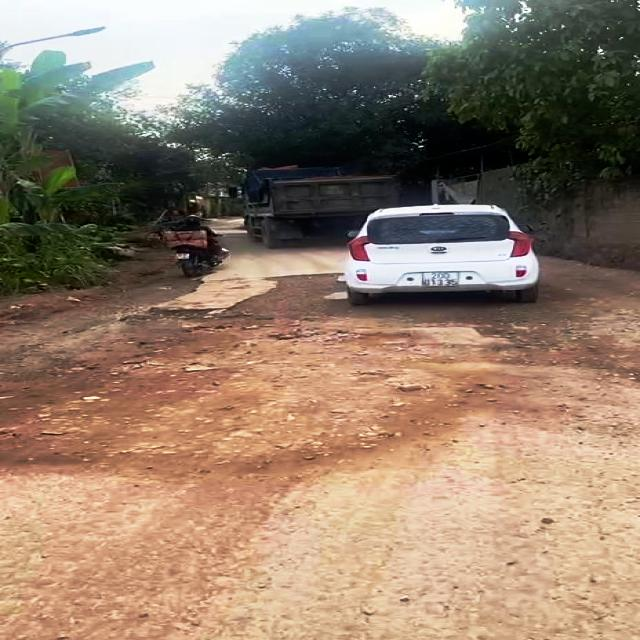pothole: (269, 311, 639, 377), (84, 302, 244, 361), (233, 268, 373, 324)
